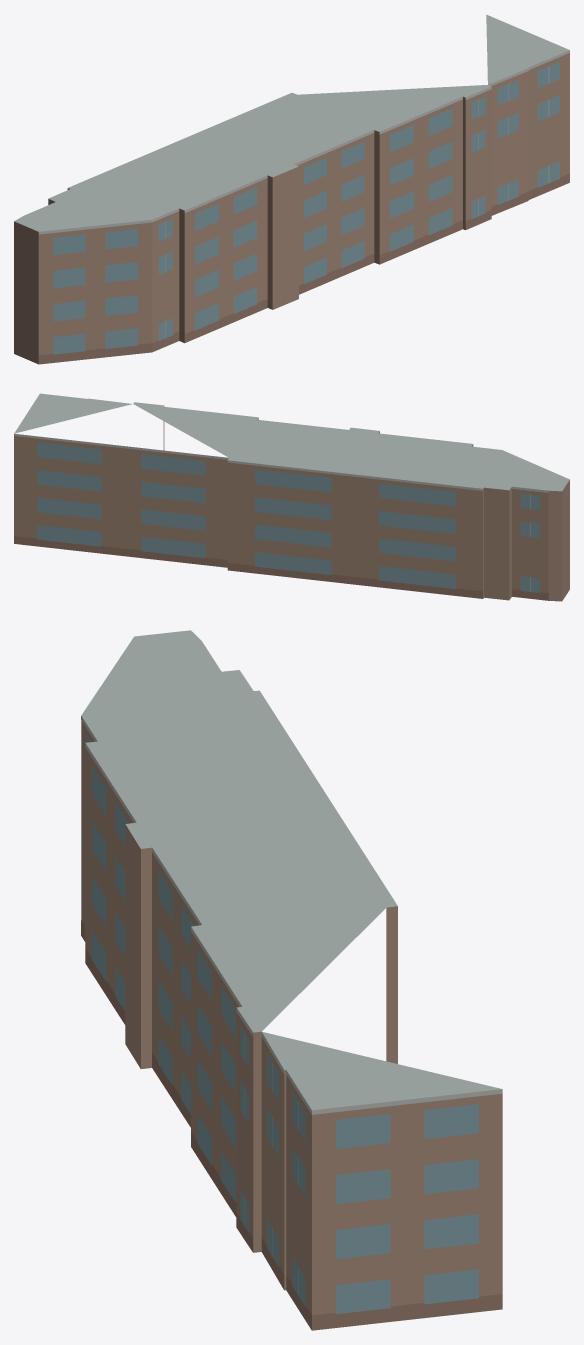
Rendered from survey-upis-32643961.glb.
3 renders of one model, top to bottom at view 1: azimuth 30°, elevation 25°; view 2: azimuth 150°, elevation 25°; view 3: azimuth 270°, elevation 25°, orthographic. The views are drawn at different scales.
Visible parts, largest first — view 1: survey-upis-32643961.tmp; view 2: survey-upis-32643961.tmp; view 3: survey-upis-32643961.tmp.
Boxes of the visible parts, <box> form: survey-upis-32643961.tmp: <box>14,14,569,364</box>; survey-upis-32643961.tmp: <box>14,393,569,601</box>; survey-upis-32643961.tmp: <box>81,630,502,1330</box>.
Bounding box in the file's own units: 55.63 × 11.9 × 20.65.
